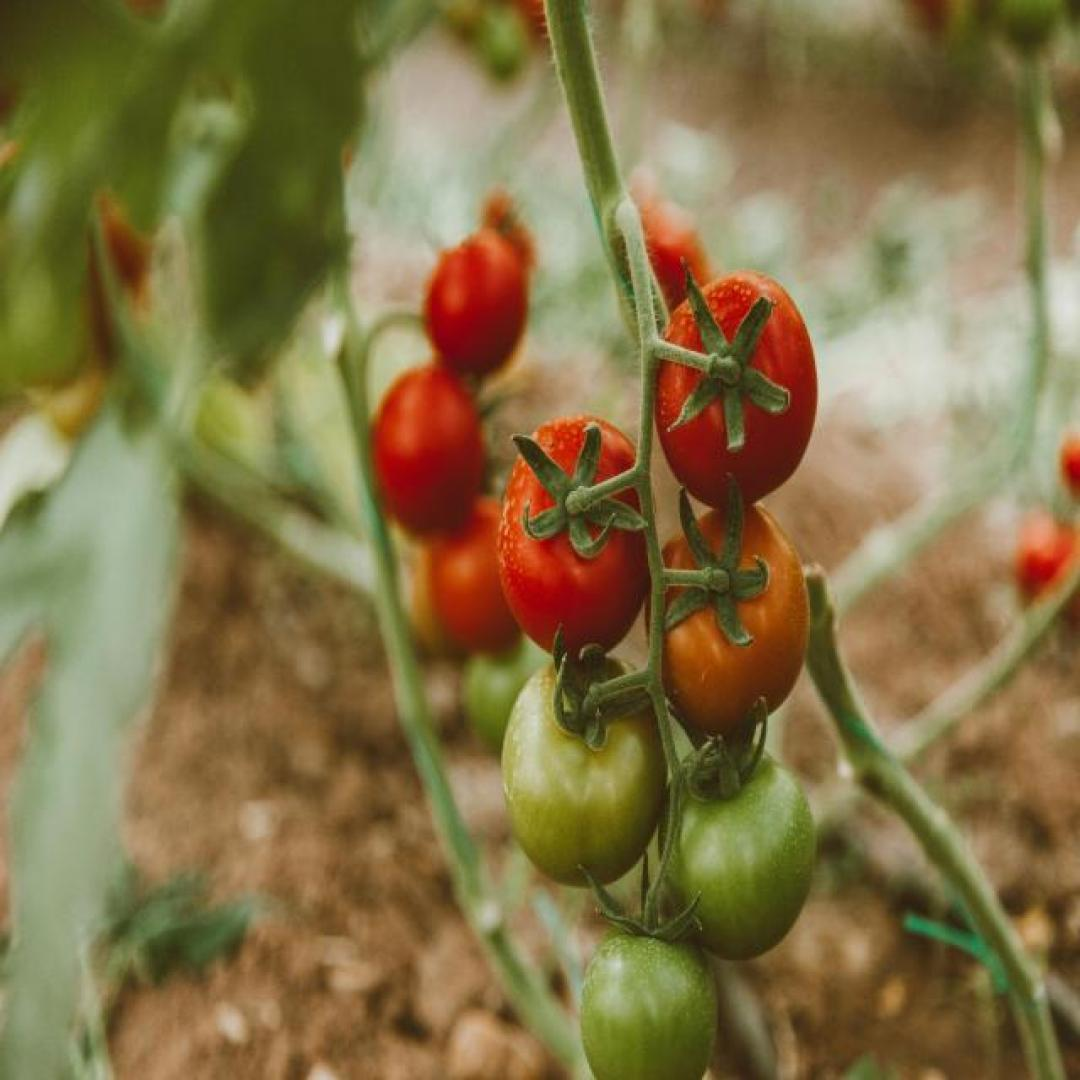matang: (655, 268, 818, 510), (496, 414, 657, 658)
mentah: (503, 658, 670, 886), (655, 742, 818, 964), (579, 913, 719, 1080)
setengah_matang: (643, 501, 812, 741)
